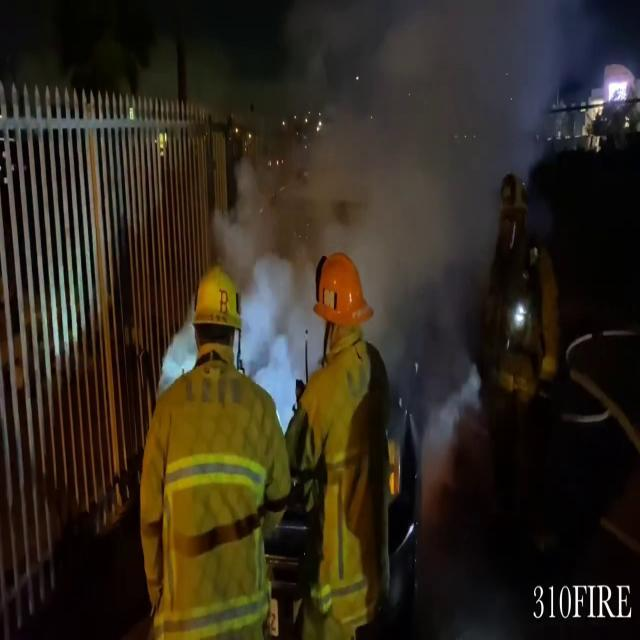Smoke: (221, 0, 523, 384)
